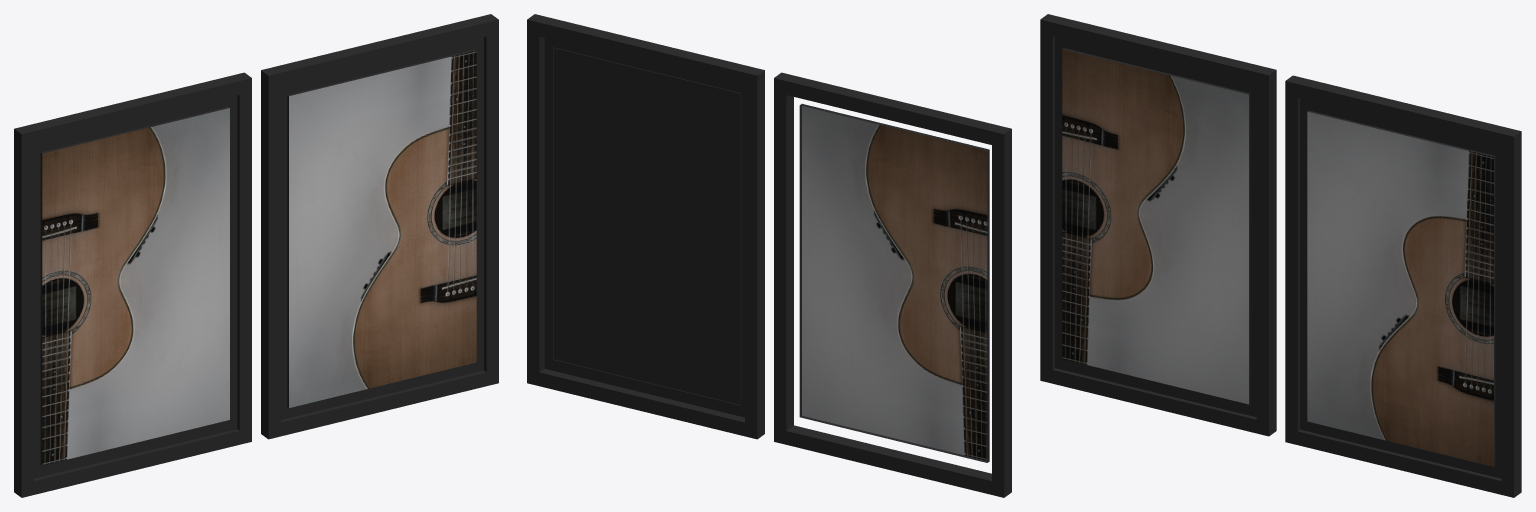
File: Cadres_01-02.fbx
3 renders of one model, left to right at view 1: azimuth 30°, elevation 25°; view 2: azimuth 150°, elevation 25°; view 3: azimuth 330°, elevation 25°, orthographic.
Parts seen in each view (by area): view 1: SM_PicFrameR4, SM_PicFrameR5; view 2: SM_PicFrameR4, SM_PicFrameR5; view 3: SM_PicFrameR5, SM_PicFrameR4.
Part boxes in pixels (bbox=[...]): SM_PicFrameR4: bbox=[261, 14, 498, 439]; SM_PicFrameR5: bbox=[14, 72, 251, 497]; SM_PicFrameR4: bbox=[527, 14, 764, 439]; SM_PicFrameR5: bbox=[774, 72, 1011, 497]; SM_PicFrameR5: bbox=[1040, 14, 1276, 436]; SM_PicFrameR4: bbox=[1285, 75, 1521, 497].
Bounding box in the file's own units: 101 × 2.8 × 73.56.
